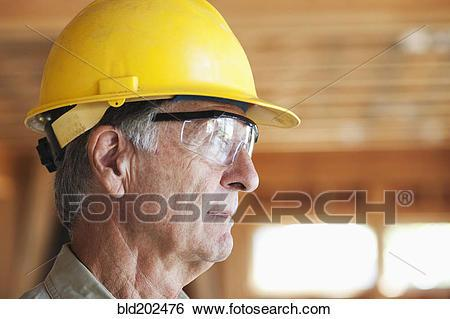helmet: (22, 1, 303, 129)
